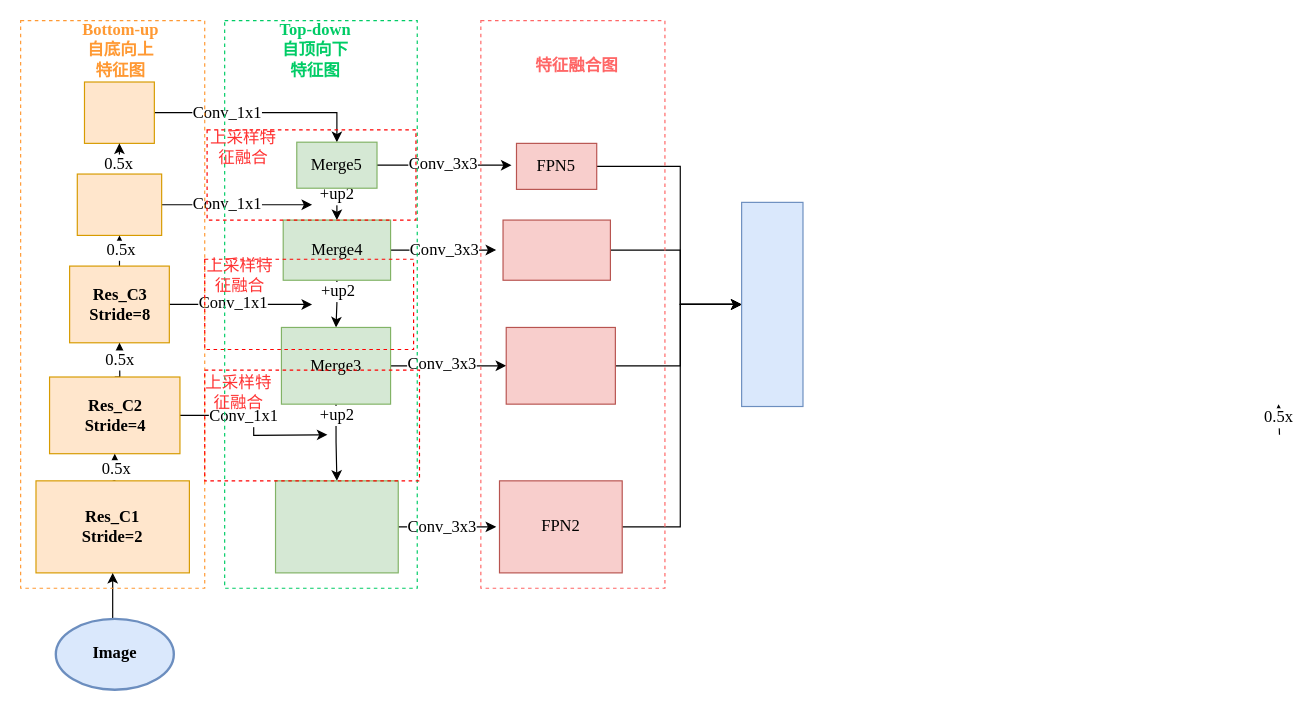
The diagram is 1313 pixels wide and 712 high, and some of its shapes have lost their labels. The shapes that lost their labels are listed below. From the top down, each one's centre as x and y in pixels, then its label:
At point (118, 112): "Res_C5 Stride=32".
At point (119, 204): "Res_C4 Stride=16".
At point (556, 249): "FPN4".
At point (771, 304): "Head Network".
At point (560, 365): "FPN3".
At point (336, 526): "Merge2".
